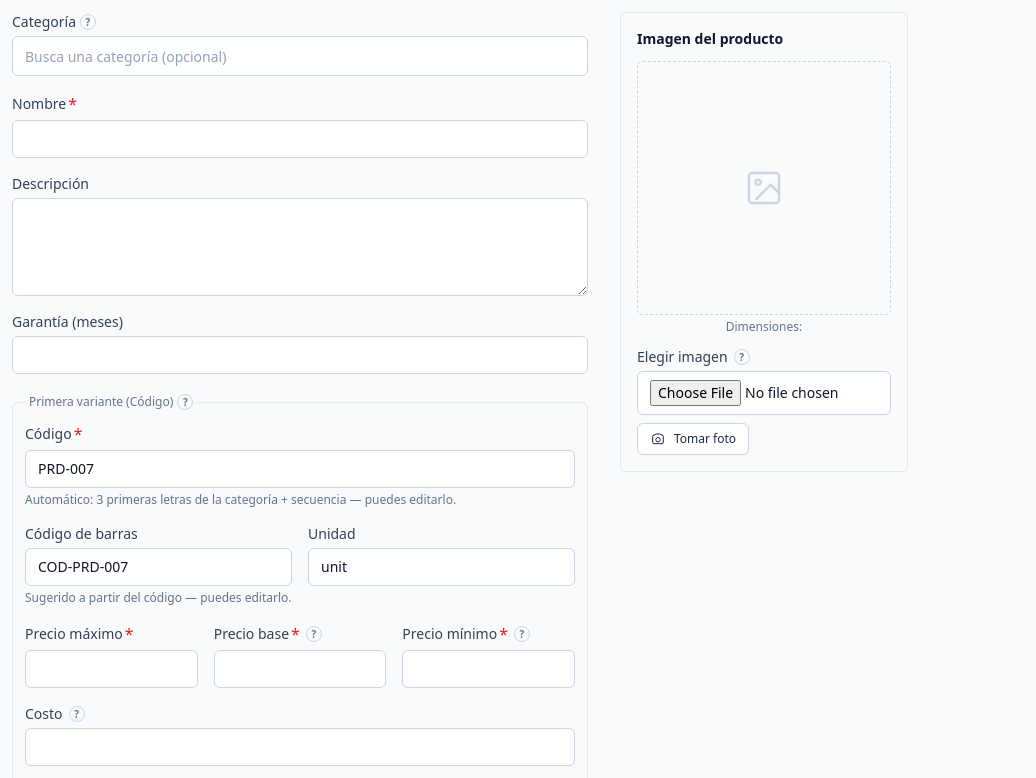
Test: ProductForm — create › proposes the next automatic code: PRD-… without a category, then the category's 3 letters + the next number
Expected: the field labelled "Código" holds "PRD-007", [25,450,575,488]
Expected: the field labelled "Código de barras" holds "COD-PRD-007", [25,548,292,586]
Type "appl" into the search field named "Buscar categoría". click: (300, 56)
box: [12,36,588,76]
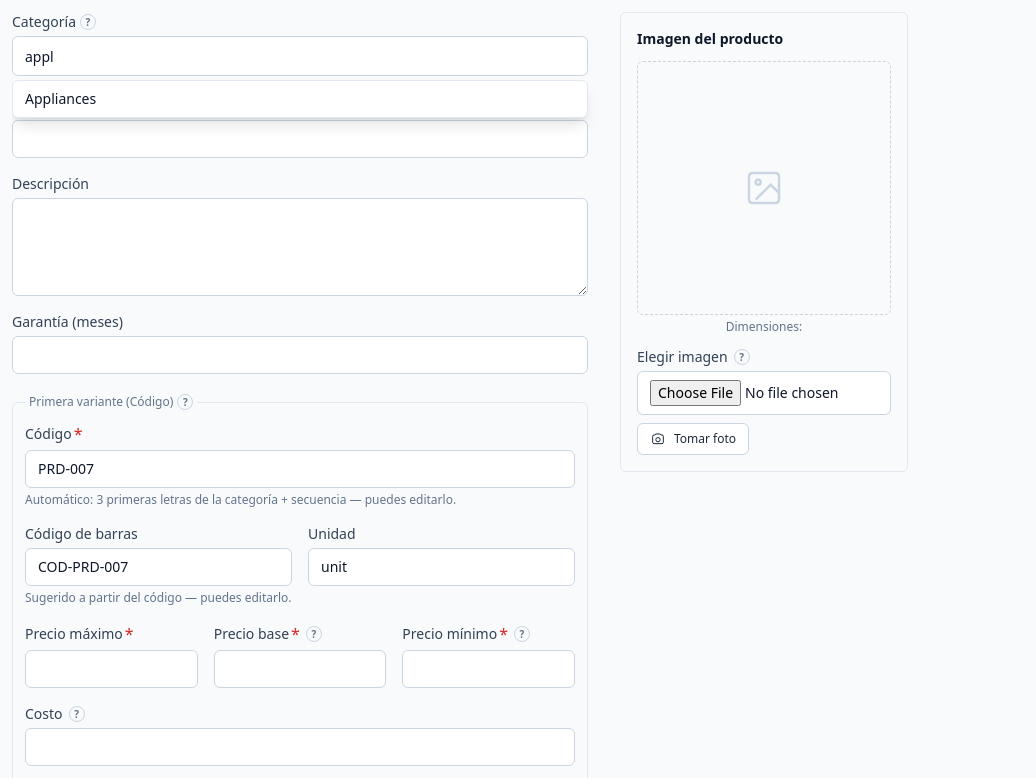
Click the option "Appliances". click: (61, 98)
box: [13,81,587,117]
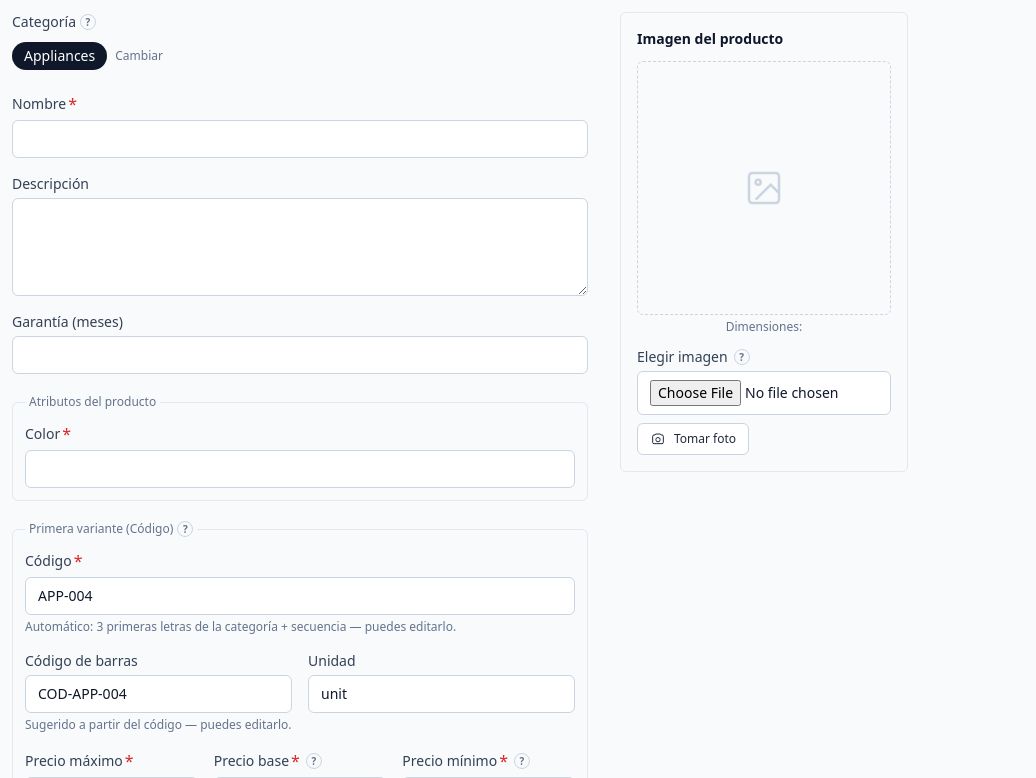
Result: the field labelled "Código" holds "APP-004" at [25,577,575,615]
Result: the field labelled "Código de barras" holds "COD-APP-004" at [25,675,292,713]
Click the button "Cambiar". click: (139, 56)
box: [115,48,163,64]
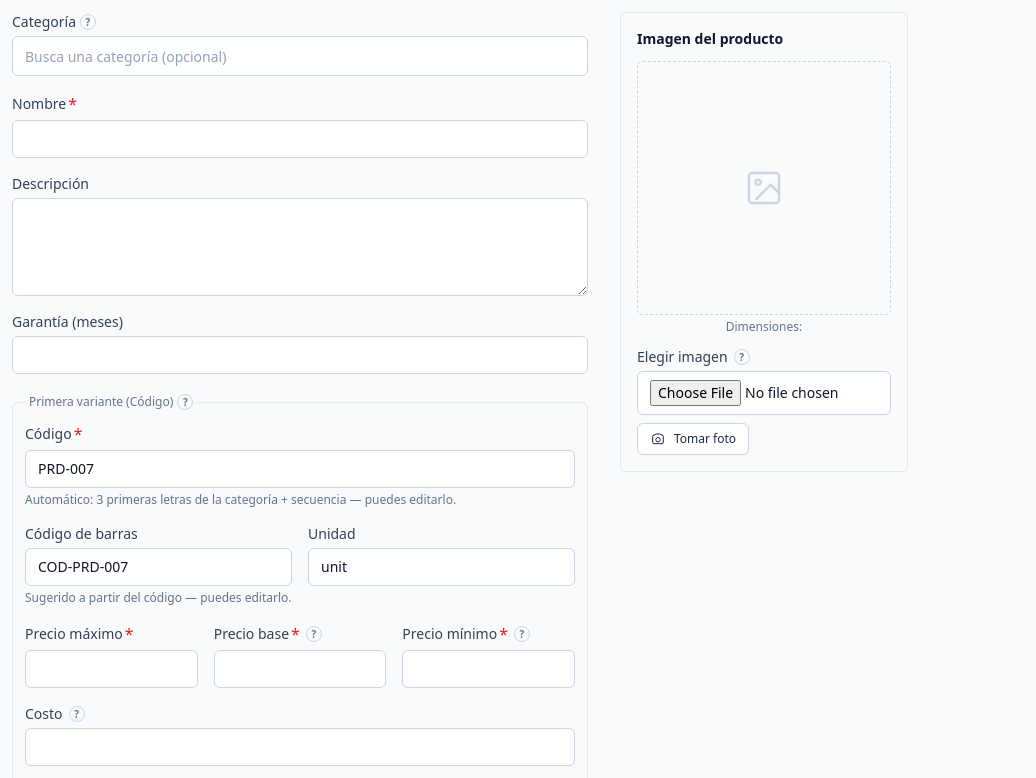
Result: the field labelled "Código" holds "PRD-007" at [25,450,575,488]
